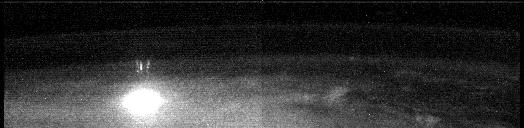positive: (131, 59, 156, 78)
